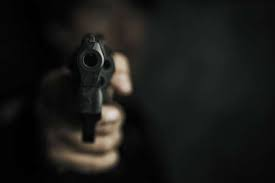gun: (67, 33, 124, 173)
